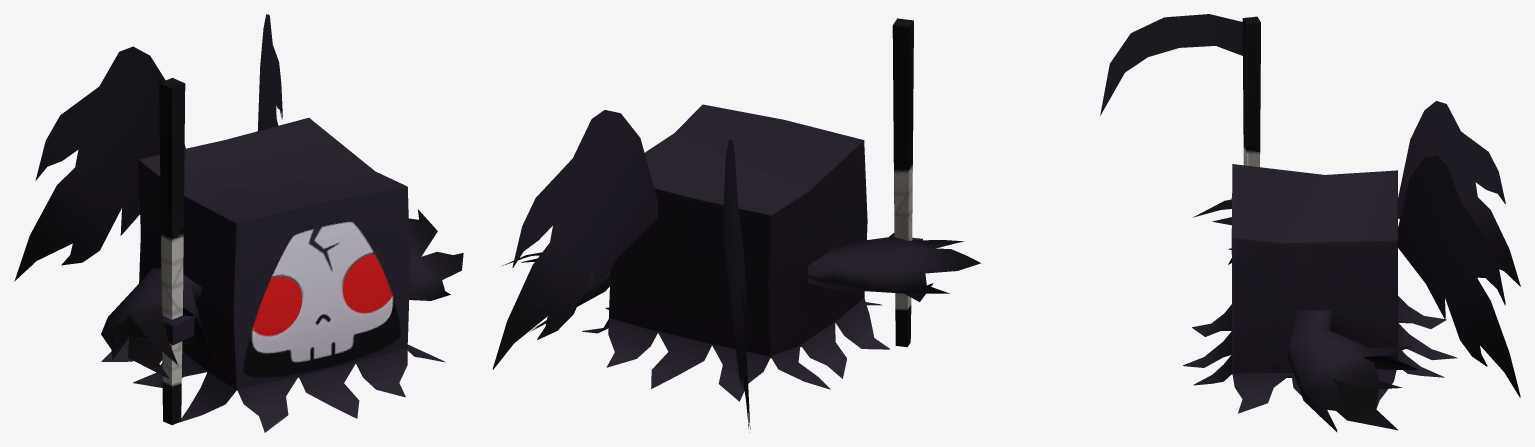
File: pets_81.fbx
The picture shows the model from 3 angles, left to right: view 1: azimuth 30°, elevation 25°; view 2: azimuth 150°, elevation 25°; view 3: azimuth 270°, elevation 25°; orthographic projection. The views are drawn at different scales.
Visible parts, largest first — view 1: Pet.066; view 2: Pet.066; view 3: Pet.066.
Boxes of the visible parts, box(x1,y1,x2,y2) form: Pet.066: box(14, 14, 463, 432); Pet.066: box(492, 18, 980, 432); Pet.066: box(1100, 14, 1520, 431).
Size of the model in its own units: 0.94 by 0.9367 by 0.7111.
